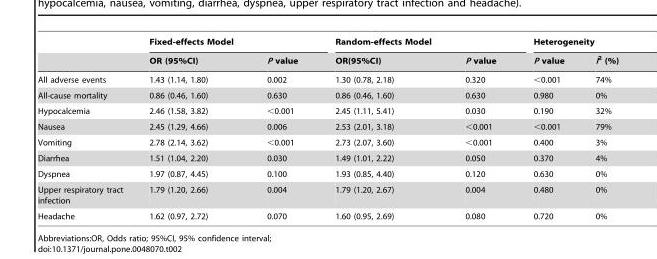table: (36, 37, 618, 220)
table column: (315, 37, 428, 220), (135, 37, 236, 220), (36, 37, 135, 220), (428, 37, 513, 220), (236, 37, 315, 220), (513, 37, 578, 220), (578, 37, 618, 220)
table column header: (36, 37, 618, 69)
table row: (36, 181, 618, 208), (36, 50, 618, 69), (36, 69, 618, 87), (36, 102, 618, 118), (36, 118, 618, 134), (36, 134, 618, 150), (36, 165, 618, 181), (36, 87, 618, 102), (36, 150, 618, 165), (36, 37, 618, 50), (36, 208, 618, 220)
table spanning cell: (315, 37, 513, 50), (135, 37, 315, 50), (513, 37, 618, 50)
